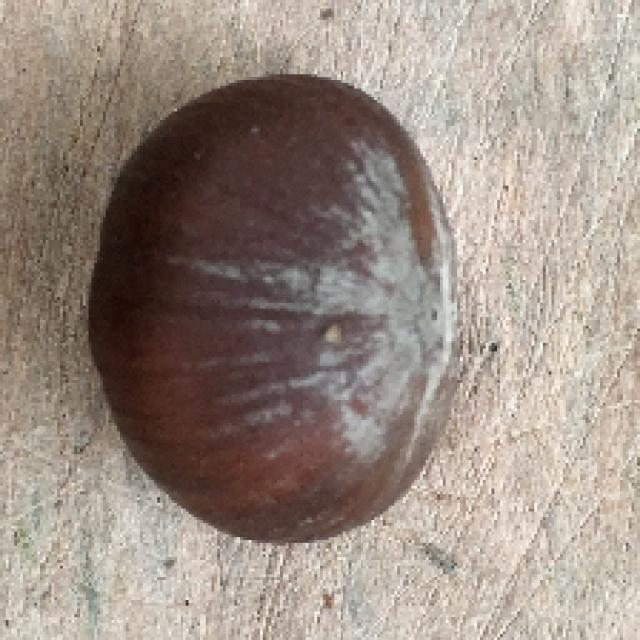damagedHazelnut: (84, 74, 481, 545)
